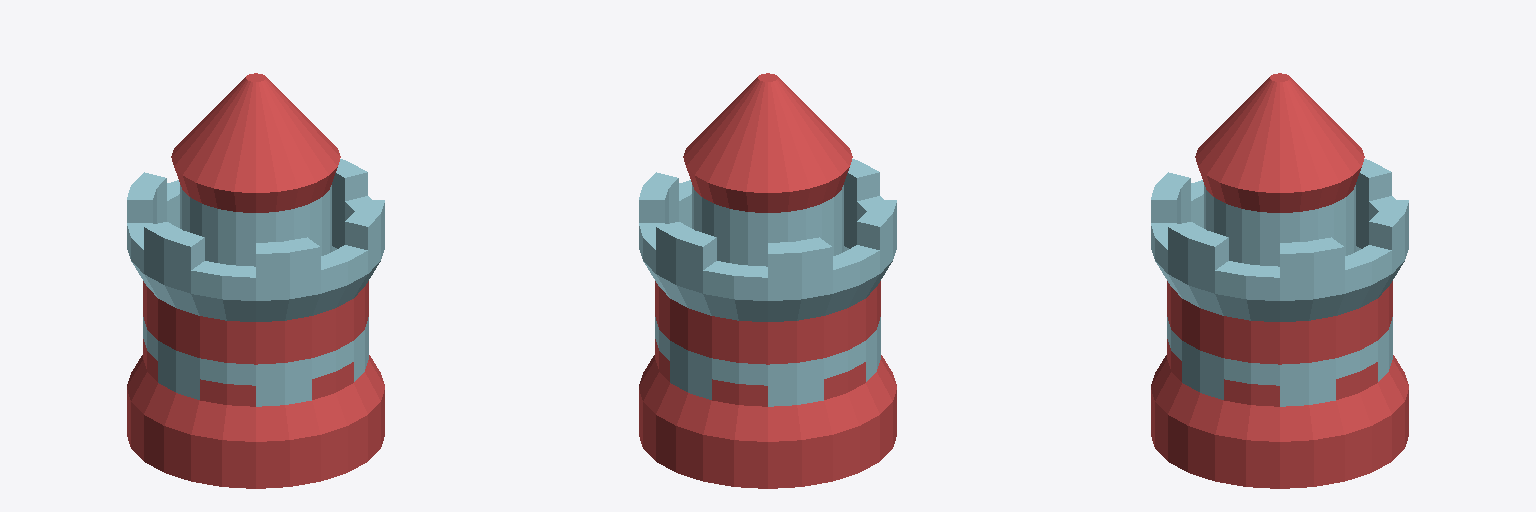
Rendered from EnemyEndTower.obj.
3 views of the same model, side by side, from view 1: azimuth 30°, elevation 25°; view 2: azimuth 150°, elevation 25°; view 3: azimuth 270°, elevation 25° (orthographic).
Parts seen in each view (by area): view 1: towerRound_sampleF; view 2: towerRound_sampleF; view 3: towerRound_sampleF.
Boxes of the visible parts, box(x1,y1,x2,y2) form: towerRound_sampleF: box(127, 73, 384, 488); towerRound_sampleF: box(639, 73, 896, 488); towerRound_sampleF: box(1151, 73, 1408, 488).
Bounding box in the file's own units: 1 × 1.52 × 1.